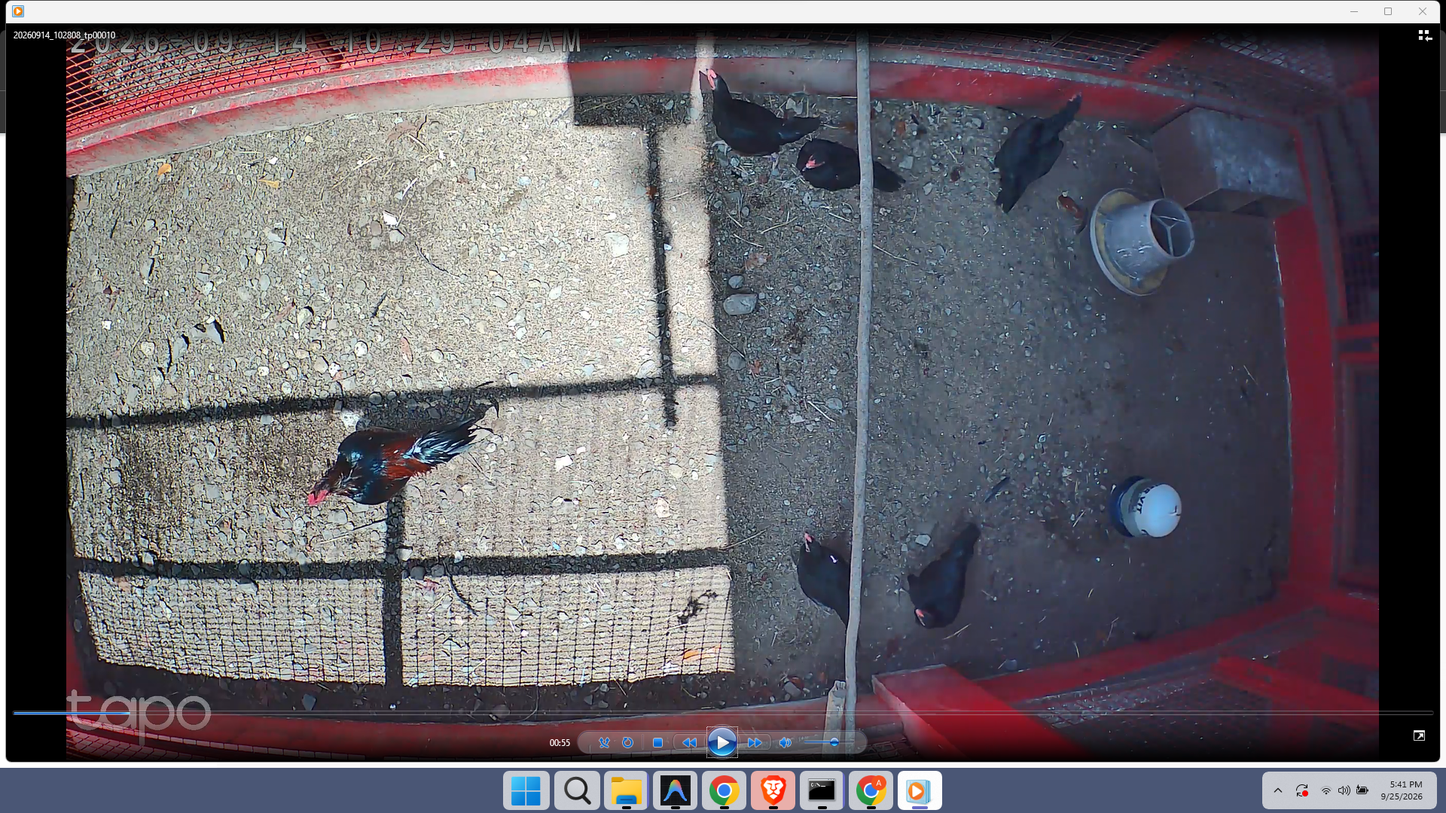Chicken: (988, 89, 1084, 217), (695, 66, 826, 156), (902, 521, 985, 630), (798, 531, 863, 649), (776, 138, 905, 194)
Drinker: (1106, 473, 1183, 540)
Feeder: (1089, 185, 1197, 297)
Rooster: (303, 412, 483, 512)
